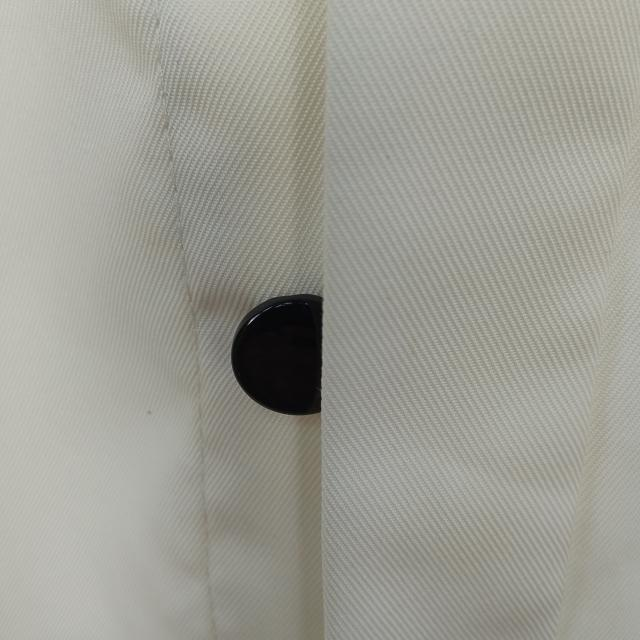education_male_uniform: (156, 128, 532, 592)
